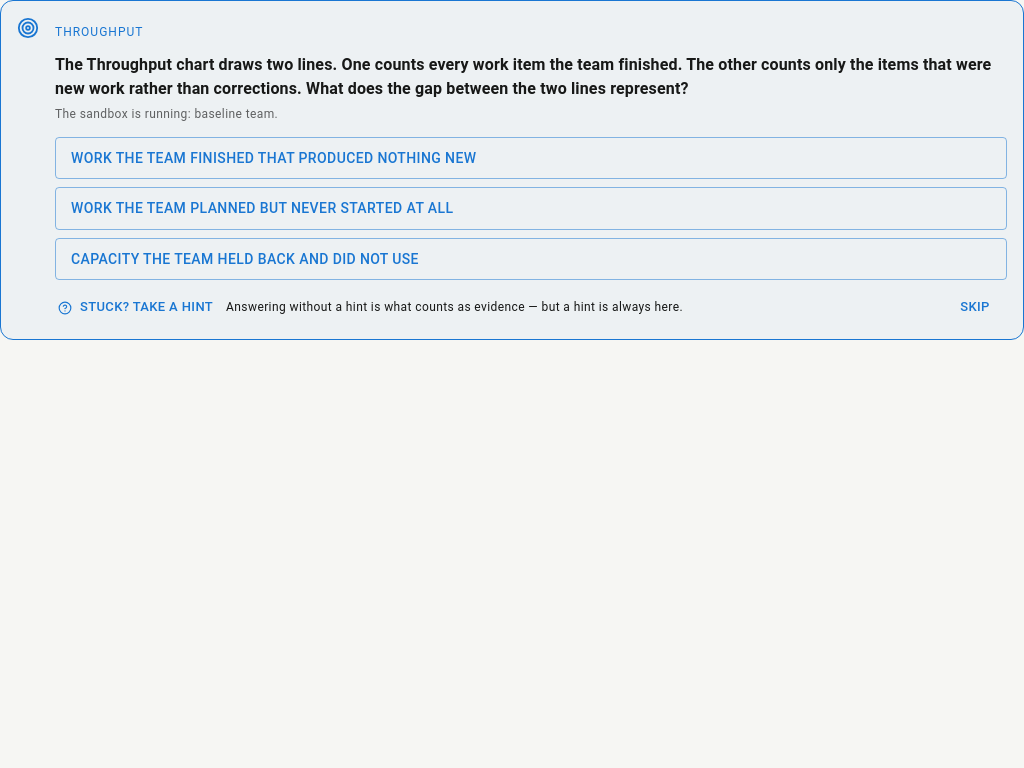
Test: the experiment and the explanation › says so in one line when nothing was changed and nothing moved
Click the button "Work the team finished that produced nothing new": (274,158) [55,137,1007,179]
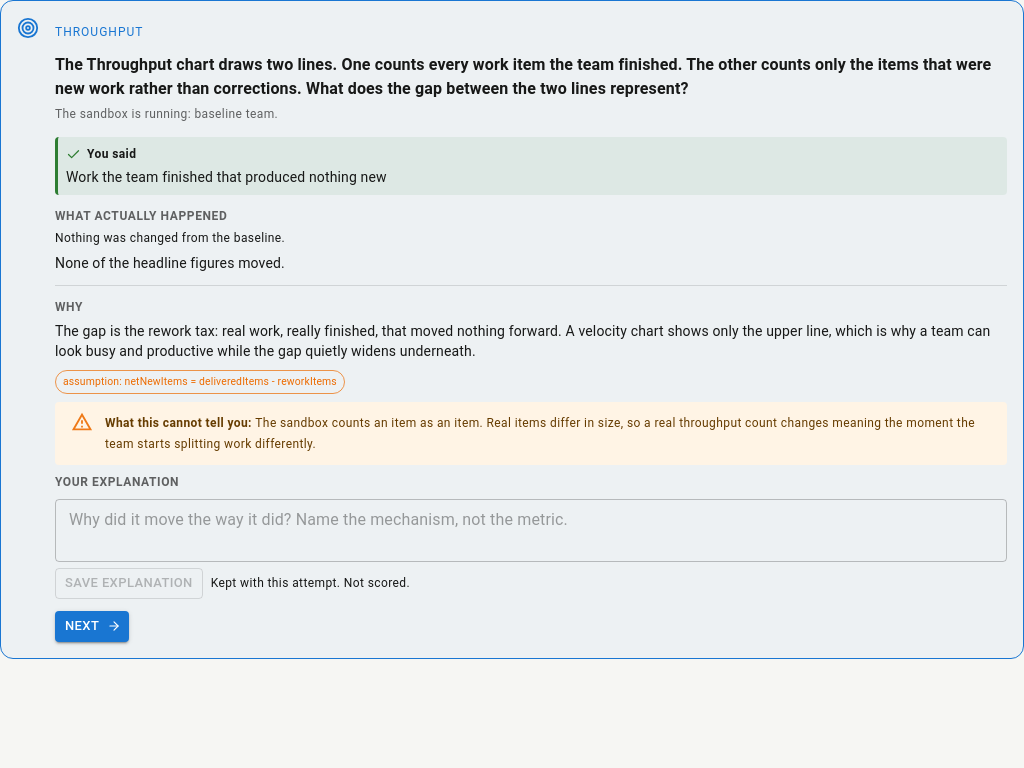
Now the element labelled "What actually happened" shows "Nothing was changed from the baseline.", box [55,231,285,245]
Now the element labelled "What actually happened" shows "None of the headline figures moved.", box [55,254,285,270]
